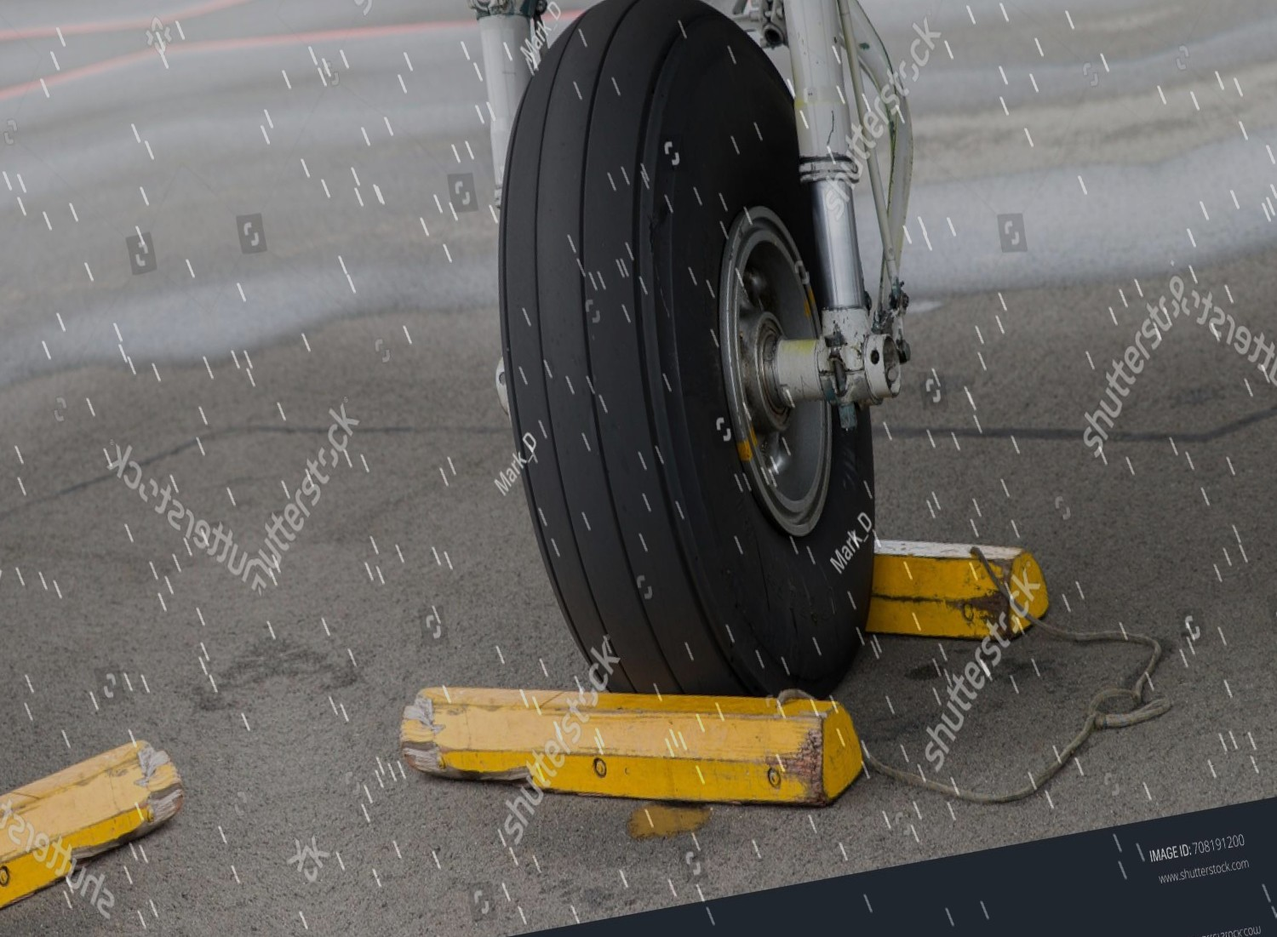chock: (388, 606, 878, 878), (719, 505, 1058, 691), (0, 728, 209, 937)
wheel: (436, 0, 902, 750)
